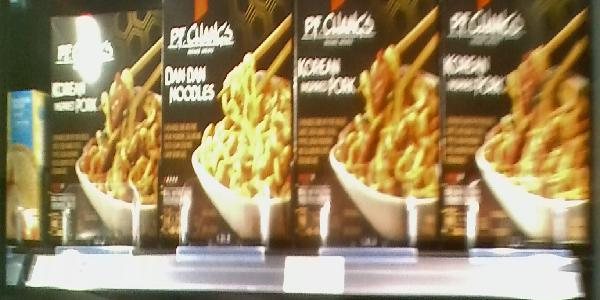pizza1: (439, 1, 594, 252), (294, 1, 441, 247), (163, 1, 292, 244), (50, 9, 163, 244)
